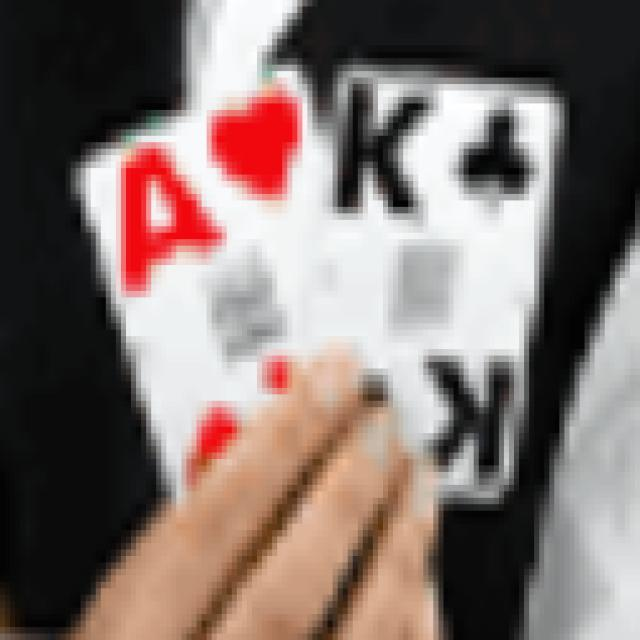Card-A: (74, 65, 326, 497)
Card-K: (329, 69, 562, 495)
